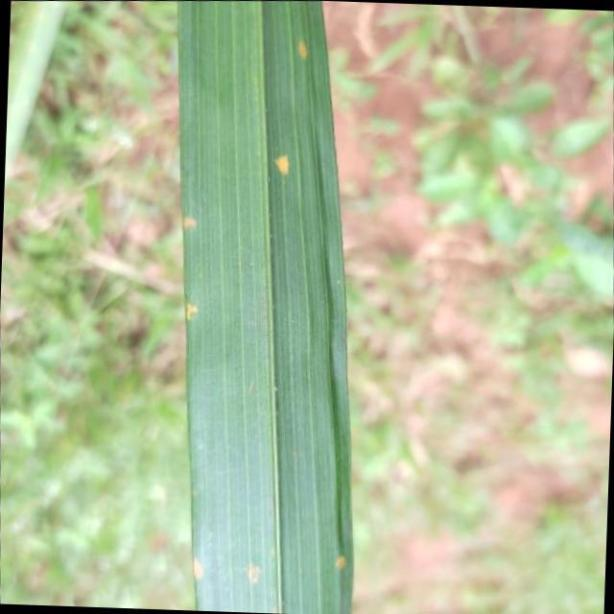Kalium: (173, 0, 355, 614)
